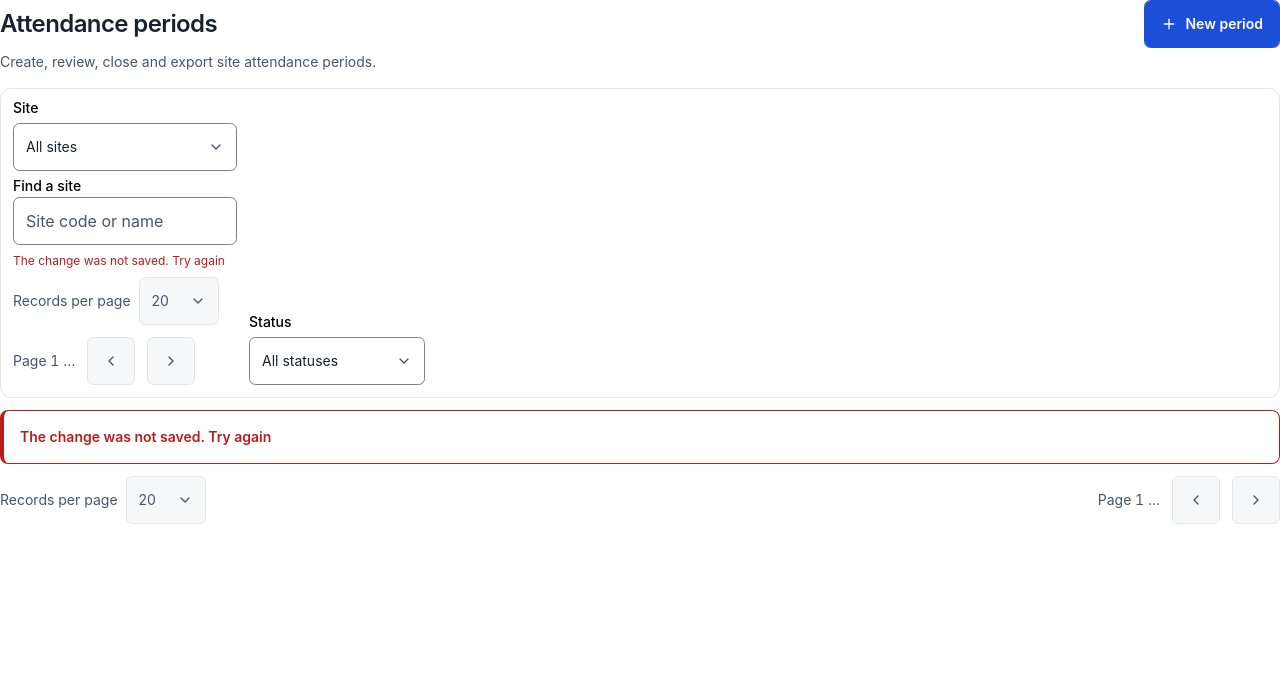
asks nothing for an untouched form, and Discard restores the default range before leaving
The width and height of the screenshot is (1280, 694).
Click the button with test id "hr-period-new": (1212, 24) [1144, 0, 1279, 48]
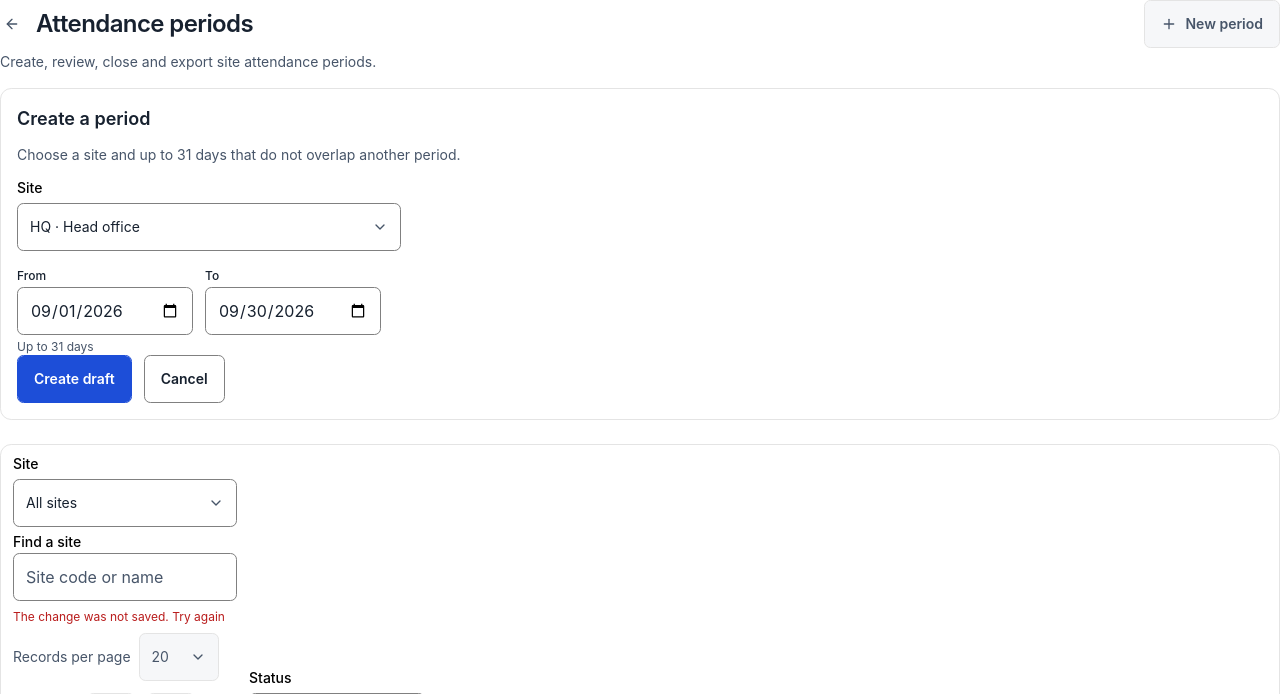
Check: the date field labelled "From" holds "2026-09-01"
In the date field labelled "From": (105, 311) [17, 287, 193, 335], type "2026-02-02"
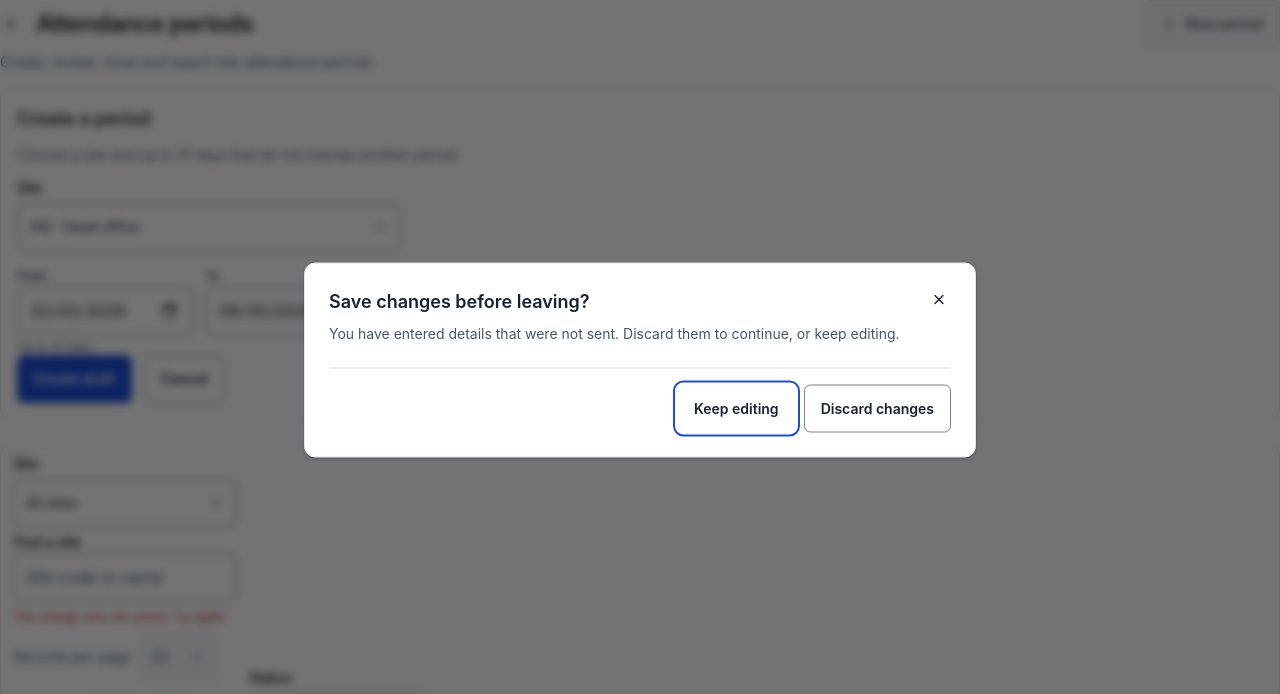
Click the button "Discard changes": (877, 408) [804, 384, 951, 432]
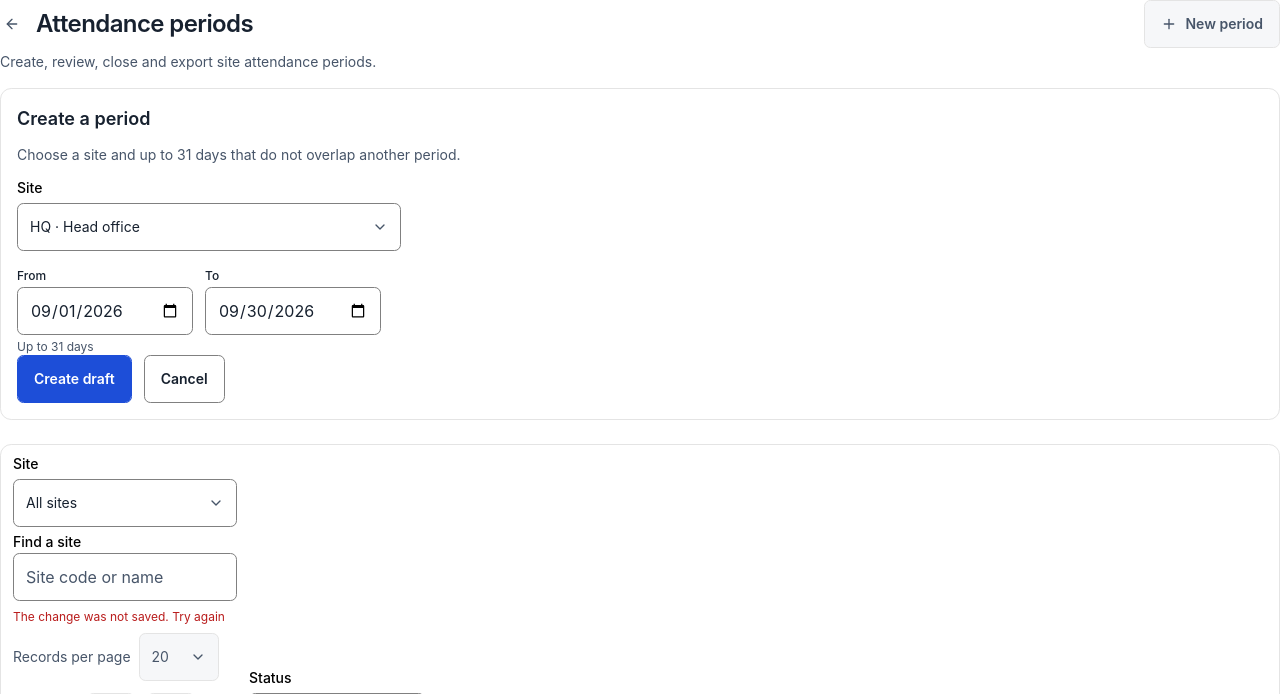
Check: the date field labelled "To" holds "2026-09-30", box [205, 287, 381, 335]
Check: the date field labelled "From" holds "2026-09-01", box [17, 287, 193, 335]
